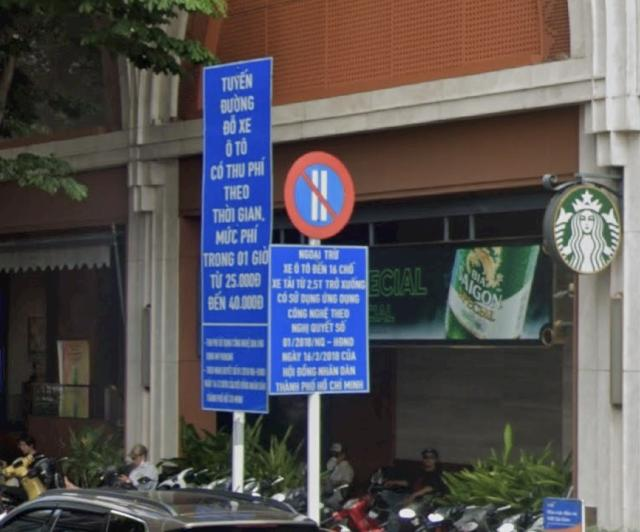131c-cam-do-xe-ngay-chan: (282, 150, 356, 239)
